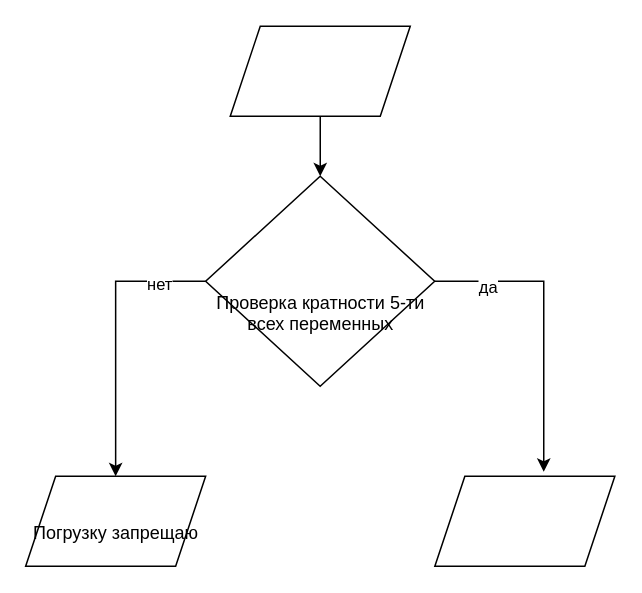
This 642x593 diagram has some shape labels left out. The shapes that lost their labels are listed below. From the top down, each one's centre as x and y in pixels, then its label:
(x=319, y=70): Ввод A, B, C
(x=524, y=520): Погрузку разрещаю
